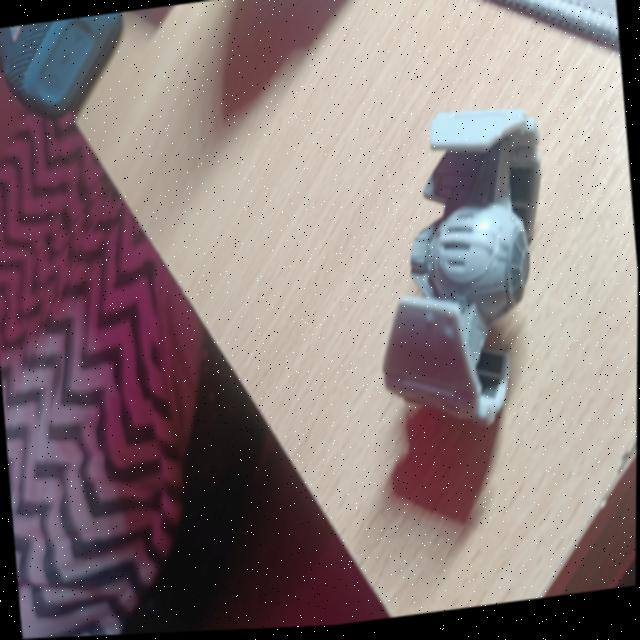tie fighter: (384, 113, 539, 426)
